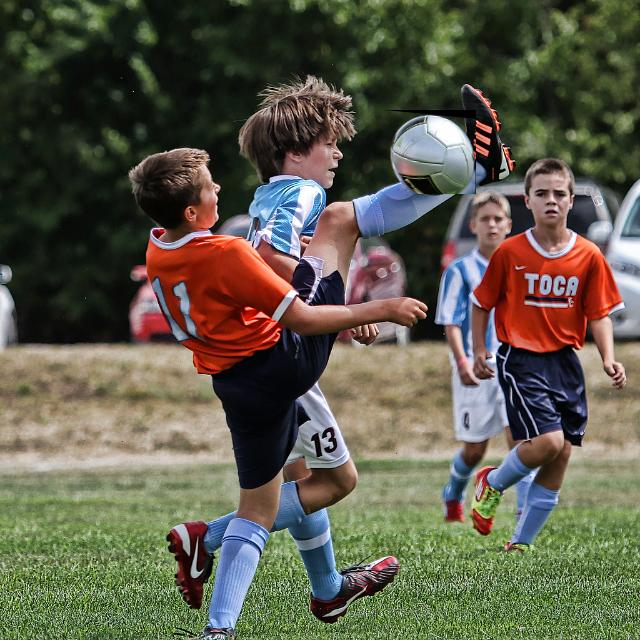Football: (384, 110, 476, 194)
